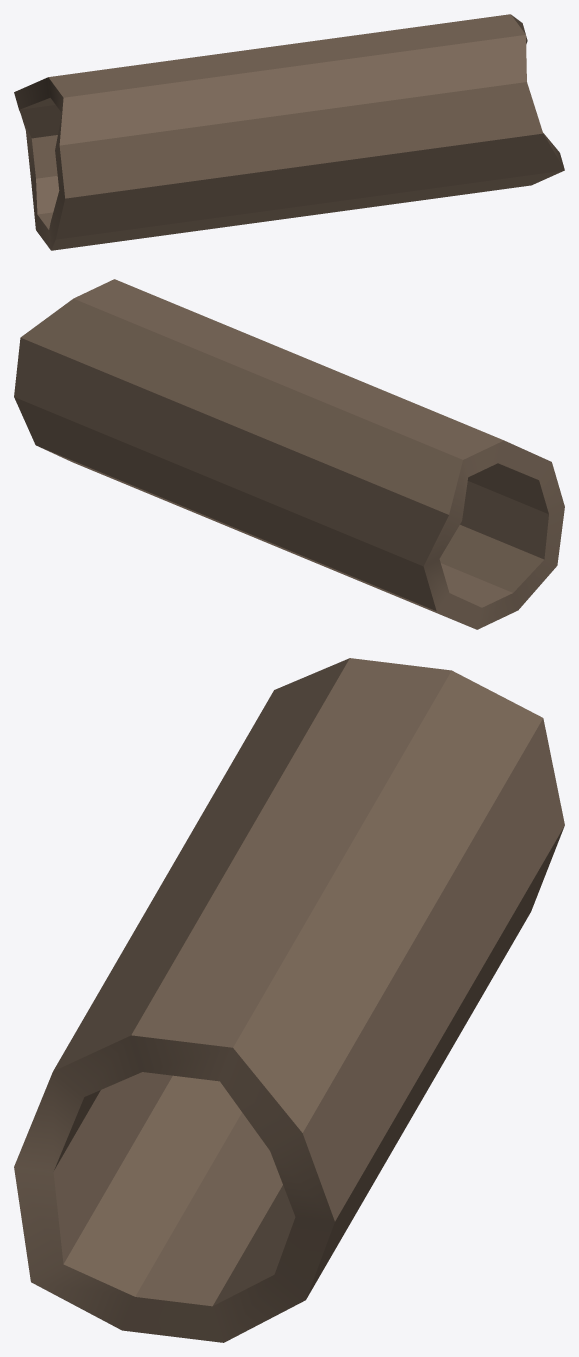
The model's file is Log.fbx.
3 views of the same model, one above another, from view 1: azimuth 30°, elevation 25°; view 2: azimuth 150°, elevation 25°; view 3: azimuth 270°, elevation 25° (orthographic). The views are drawn at different scales.
Parts seen in each view (by area): view 1: Log_1; view 2: Log_1; view 3: Log_1.
Part boxes in pixels (x1,y1,x2,y2): Log_1: [14, 14, 564, 250]; Log_1: [14, 279, 564, 629]; Log_1: [14, 658, 564, 1342].
Size of the model in its own units: 4.5 by 1.41 by 2.32.
